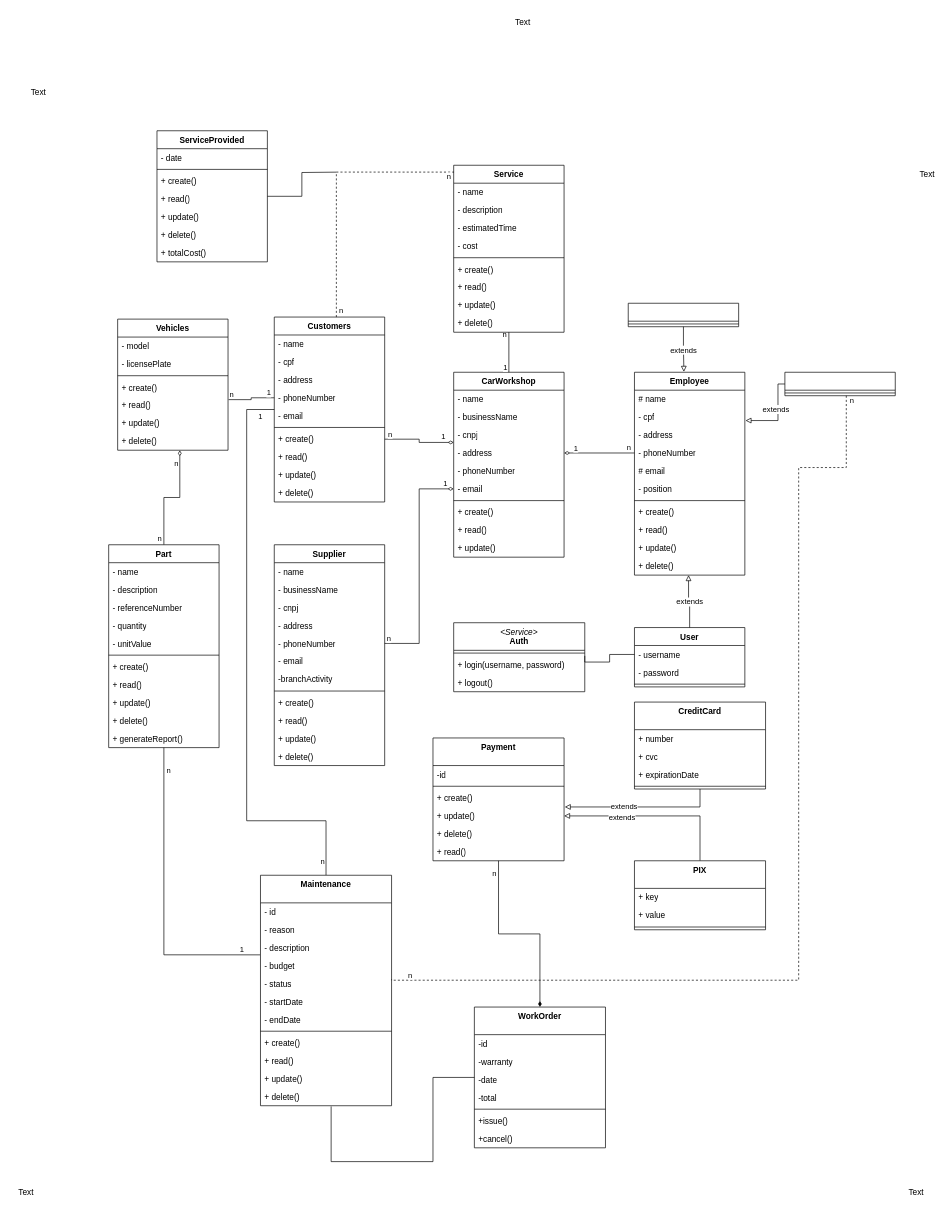
This 952x1214 diagram has some shape labels left out. The shapes that lost their labels are listed below. From the top down, each one's centre as x and y in pixels, then its label:
point 683,315: attendant
point 839,384: Mechanic
